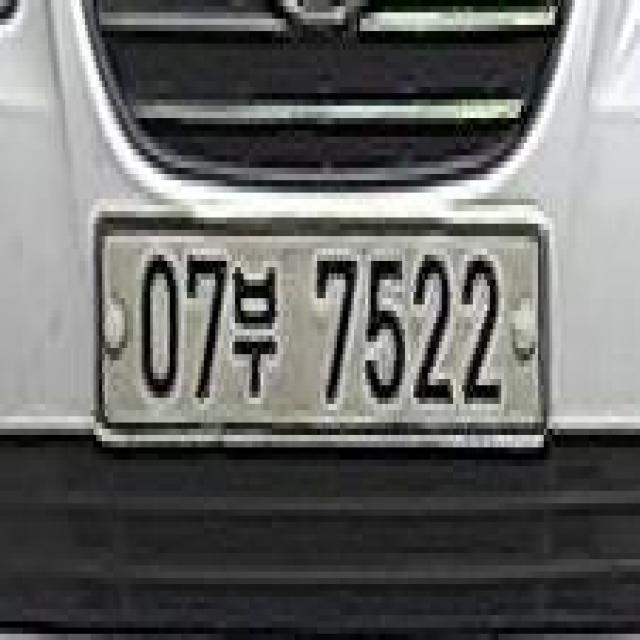illegal_plate: (90, 200, 548, 465)
